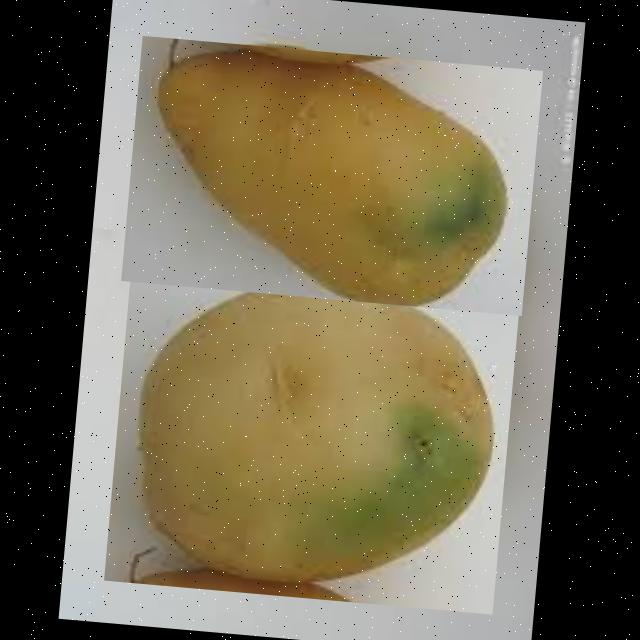Defected potato: (102, 255, 520, 614), (119, 36, 542, 316)
